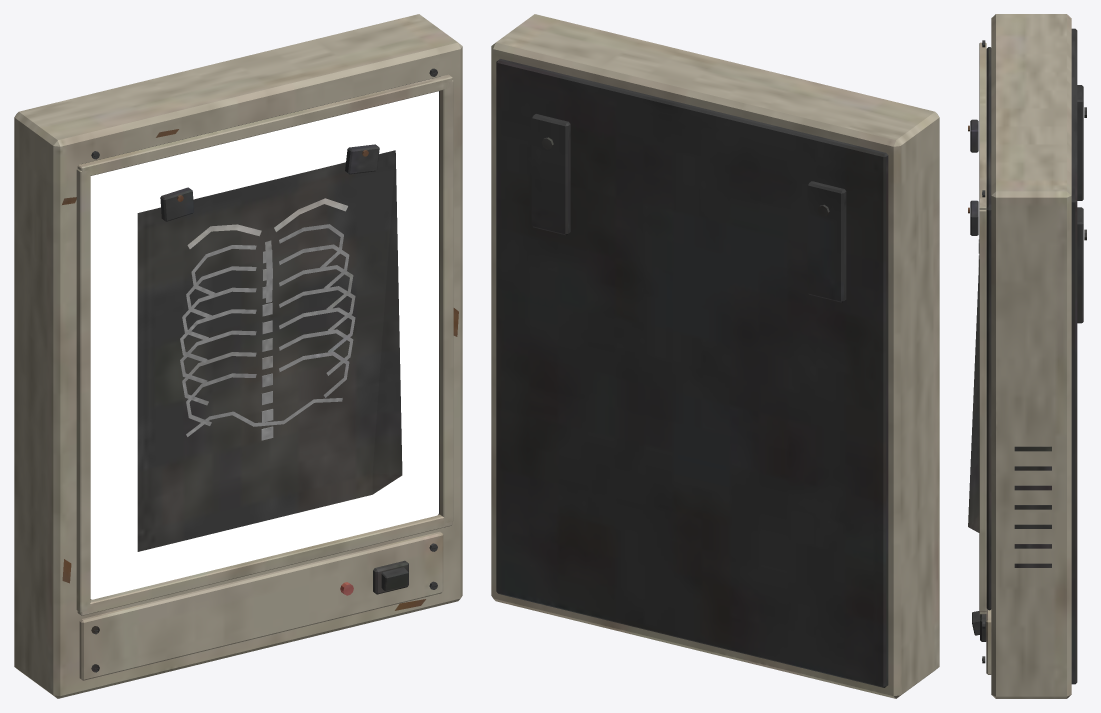
The model's file is H05_x_ray_light_box.glb.
3 views of the same model, side by side, from view 1: azimuth 30°, elevation 25°; view 2: azimuth 150°, elevation 25°; view 3: azimuth 270°, elevation 25° (orthographic). The views are drawn at different scales.
Visible parts, largest first — view 1: Folded enamel housing; view 2: Folded enamel housing; view 3: Folded enamel housing.
Boxes of the visible parts, left/top/right/bottom form: Folded enamel housing: left=14, top=14, right=462, bottom=698; Folded enamel housing: left=491, top=14, right=939, bottom=698; Folded enamel housing: left=968, top=14, right=1086, bottom=698.
Bounding box in the file's own units: 0.4607 × 0.6 × 0.1275.
9 materials, 8 textured.
